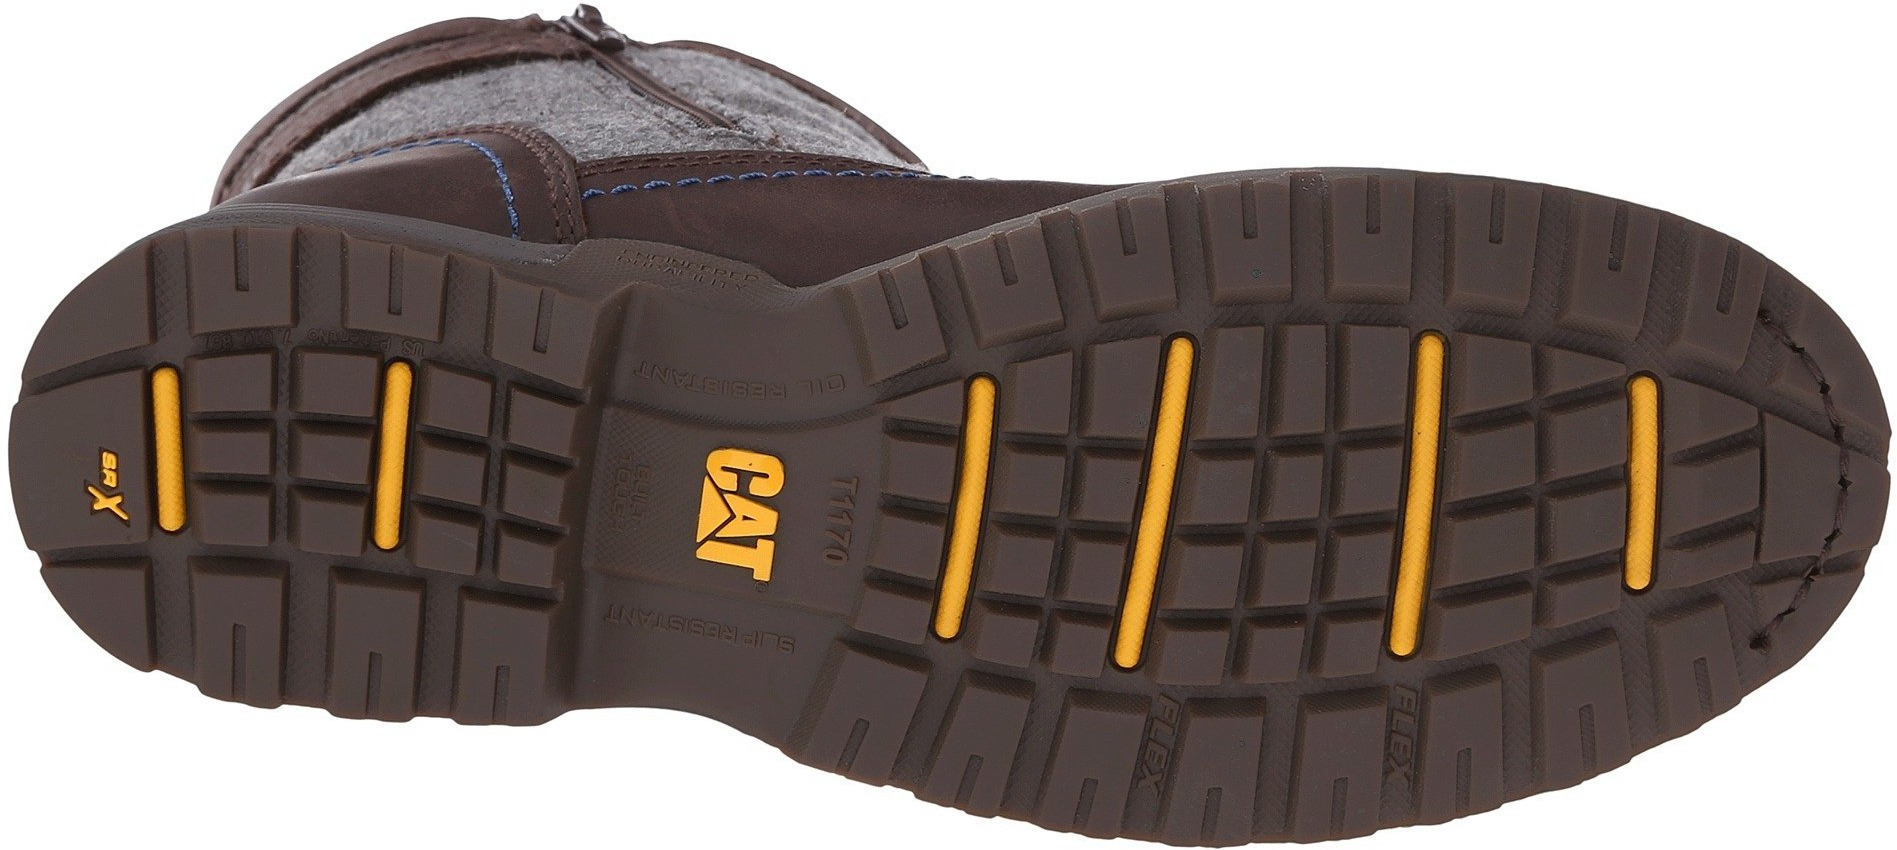line: (1303, 496, 1546, 690), (1331, 314, 1546, 524), (878, 336, 1077, 527)
quad: (1428, 168, 1685, 414), (840, 317, 1091, 540), (1303, 496, 1546, 690), (1194, 232, 1414, 444), (1331, 314, 1546, 524), (878, 336, 1077, 527), (1184, 445, 1386, 631), (172, 369, 375, 549), (1452, 424, 1620, 592), (1129, 681, 1303, 838), (411, 407, 575, 544), (987, 446, 1126, 592)
text: (1129, 681, 1303, 838), (702, 455, 812, 577), (59, 449, 142, 537), (1374, 676, 1430, 798), (661, 341, 721, 418), (664, 603, 733, 660), (815, 470, 878, 531)
triangle: (1428, 168, 1685, 414), (840, 317, 1091, 540)
